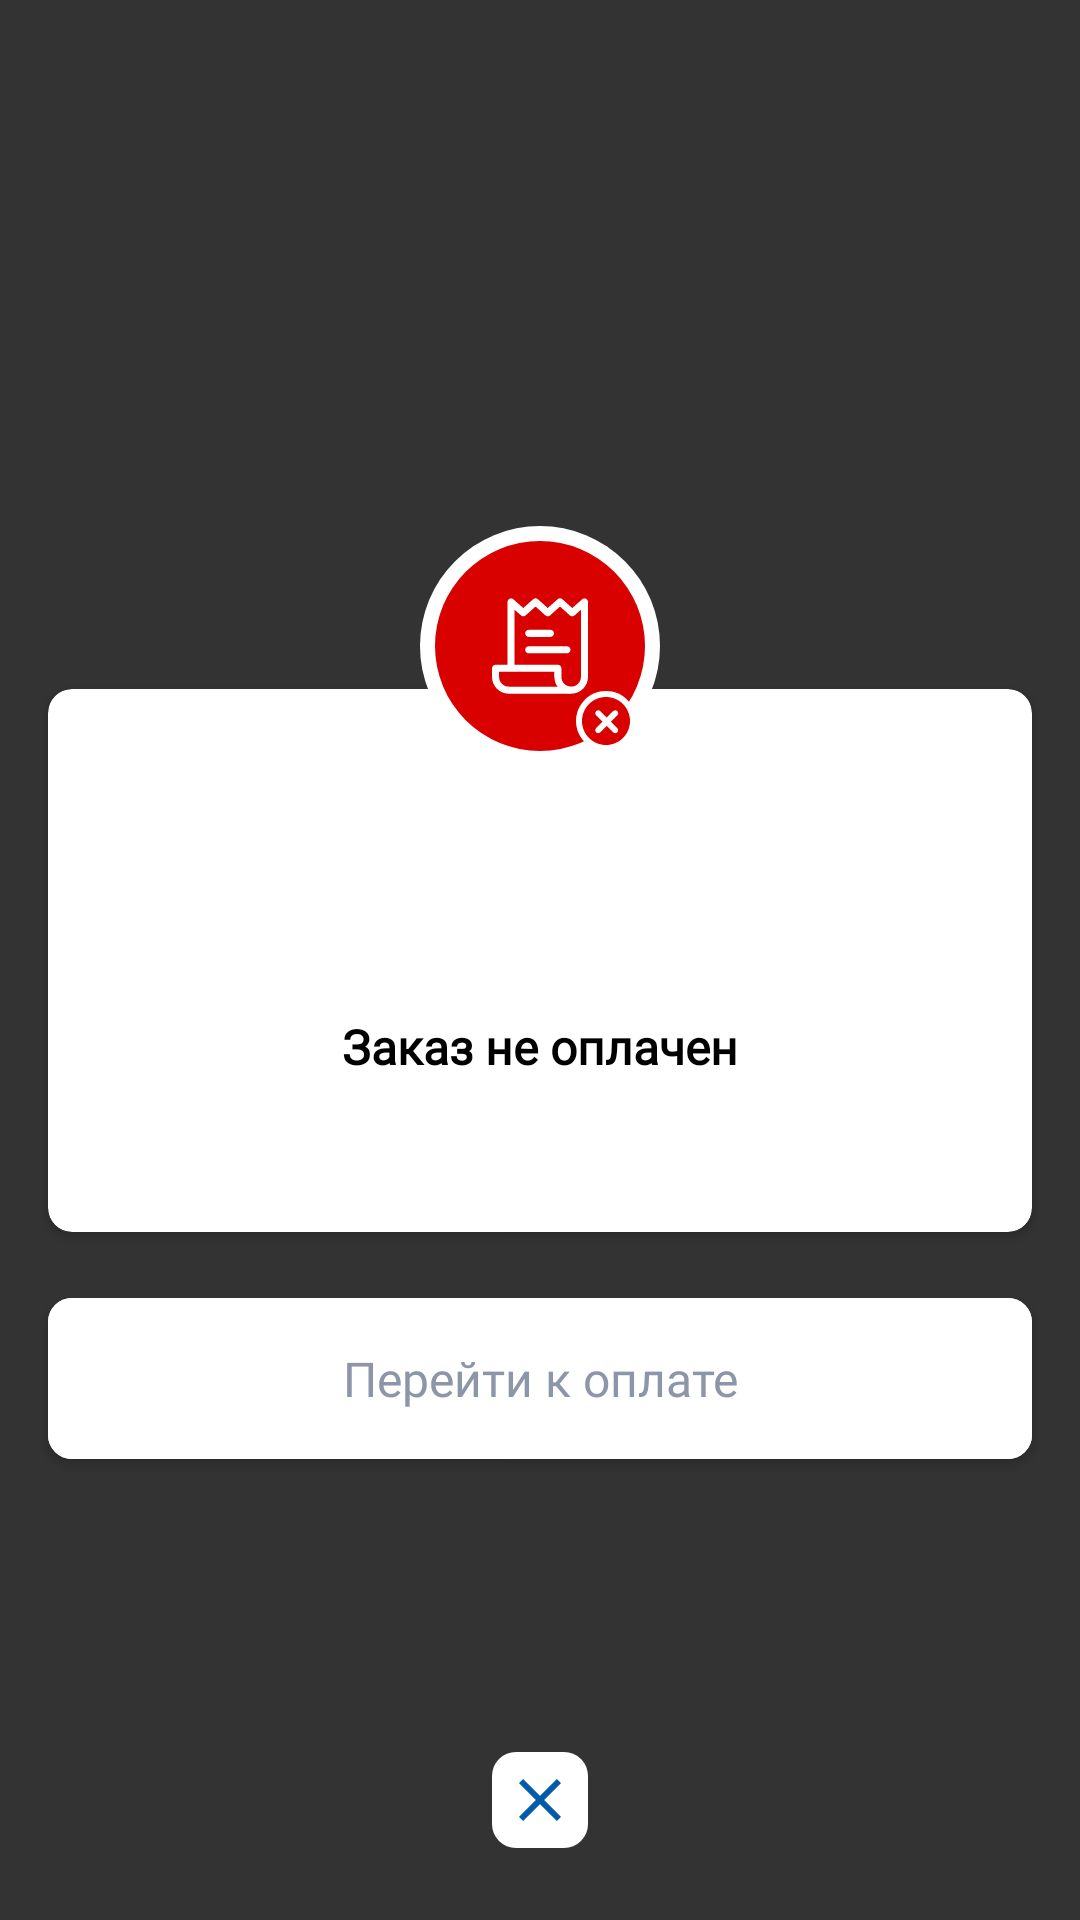

Point at icon controls on the screen. Image size 1080x1920, points as (x=x, y=y).
close in rect: (x=540, y=1800)
failed in payment: (x=540, y=646)
